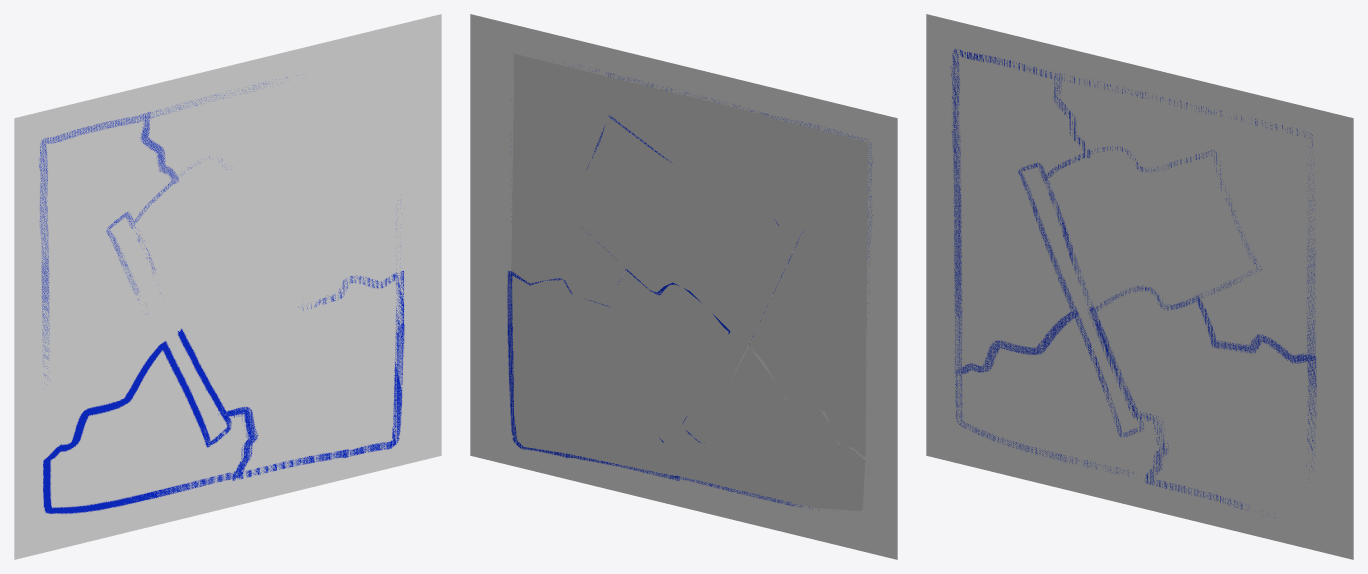
Rendered from 11_Flag.fbx.
3 renders of one model, left to right at view 1: azimuth 30°, elevation 25°; view 2: azimuth 150°, elevation 25°; view 3: azimuth 330°, elevation 25°, orthographic.
Visible parts, largest first — view 1: Out_3_0, Out_2_0, Out_4_0, In_2_0, In_1_0, Out_1_0; view 2: Out_2_0, Out_2_1, In_2_0, Out_4_1, Out_1_1, In_2_1, Out_3_0, Out_3_1, In_1_0, In_1_1, Out_4_0, Out_1_0; view 3: Out_4_0, Out_2_0, Out_3_0, Out_1_0, In_1_0, In_2_0.
Part boxes in pixels (x1,y1,x2,y2): Out_3_0: (17, 14, 439, 558); Out_2_0: (14, 56, 436, 559); Out_4_0: (18, 14, 439, 499); In_2_0: (17, 83, 439, 540); In_1_0: (19, 14, 441, 521); Out_1_0: (14, 48, 436, 559); Out_2_0: (475, 29, 897, 559); Out_2_1: (512, 270, 731, 475); In_2_0: (472, 18, 894, 558); Out_4_1: (736, 117, 867, 457); Out_1_1: (511, 53, 768, 305); In_2_1: (564, 117, 778, 333); Out_3_0: (472, 15, 894, 558); Out_3_1: (659, 347, 865, 511); In_1_0: (470, 14, 892, 542); In_1_1: (682, 214, 802, 443); Out_4_0: (472, 15, 893, 453); Out_1_0: (475, 25, 897, 497); Out_4_0: (930, 16, 1351, 559); Out_2_0: (926, 14, 1348, 538); Out_3_0: (929, 20, 1351, 507); Out_1_0: (926, 15, 1348, 558); In_1_0: (932, 27, 1353, 559); In_2_0: (929, 34, 1330, 503).
Size of the model in its own units: 9.85 by 9.73 by 0.005.
12 materials, 6 textured.
